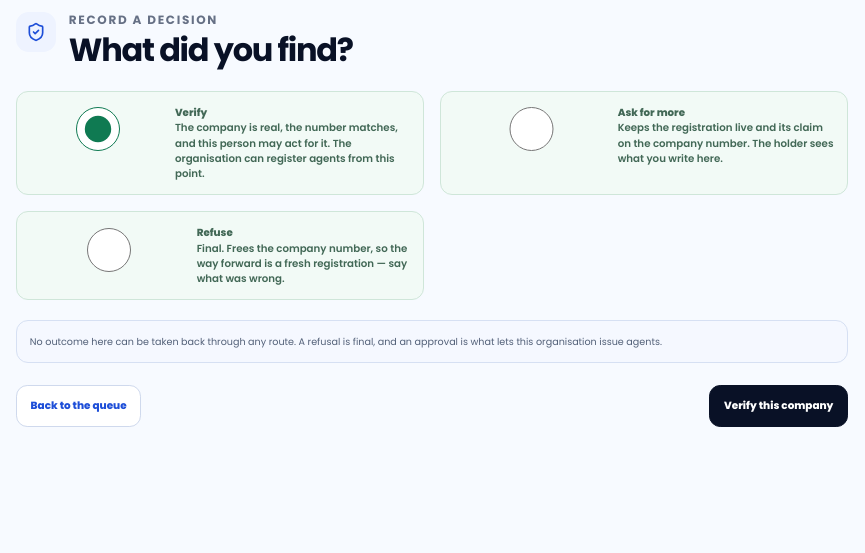
Scenario: ReviewDecisionForm › reports the outcome in words, never as the raw enum
Click the radio button labelled "Ask for more". click: x=531, y=129
box: [454,107,609,151]
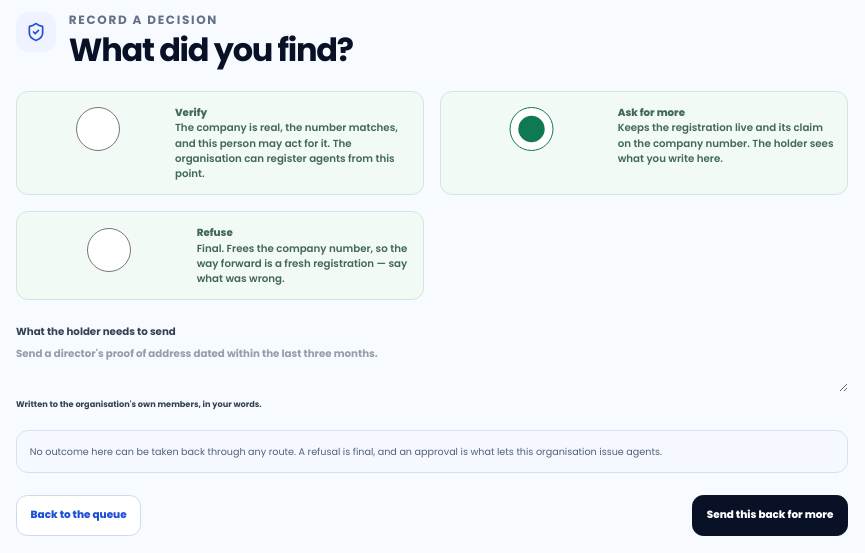
Replace the text in the text box labelled "needs to send" with "Send the certificate of incorporation.". click: x=432, y=369
box: [16,346,848,392]
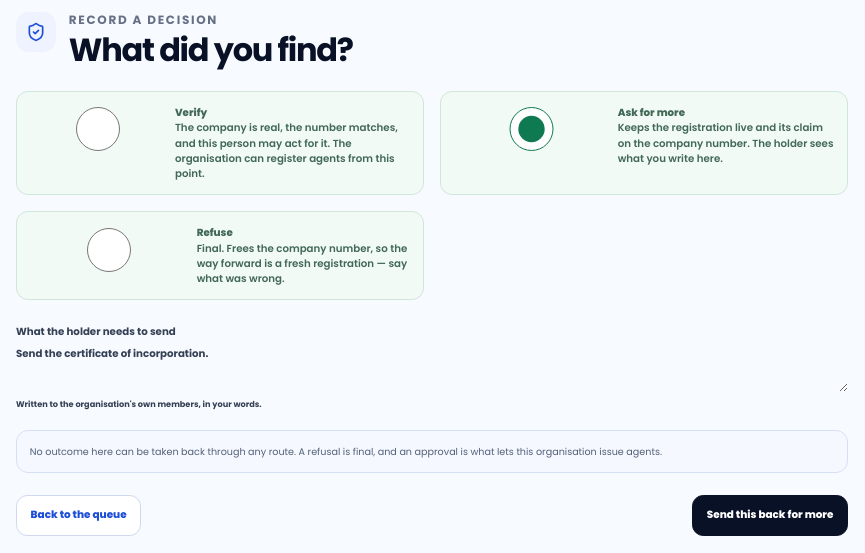
Click the button "Send this back for more". click: x=770, y=516
box: [692,495,848,536]
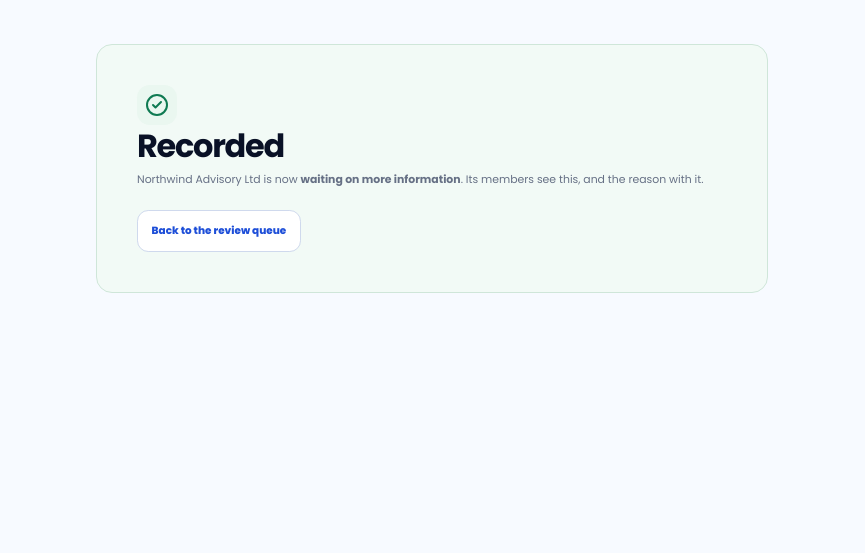
Check: the text "waiting on more information" is shown, box [300,172,461,187]
